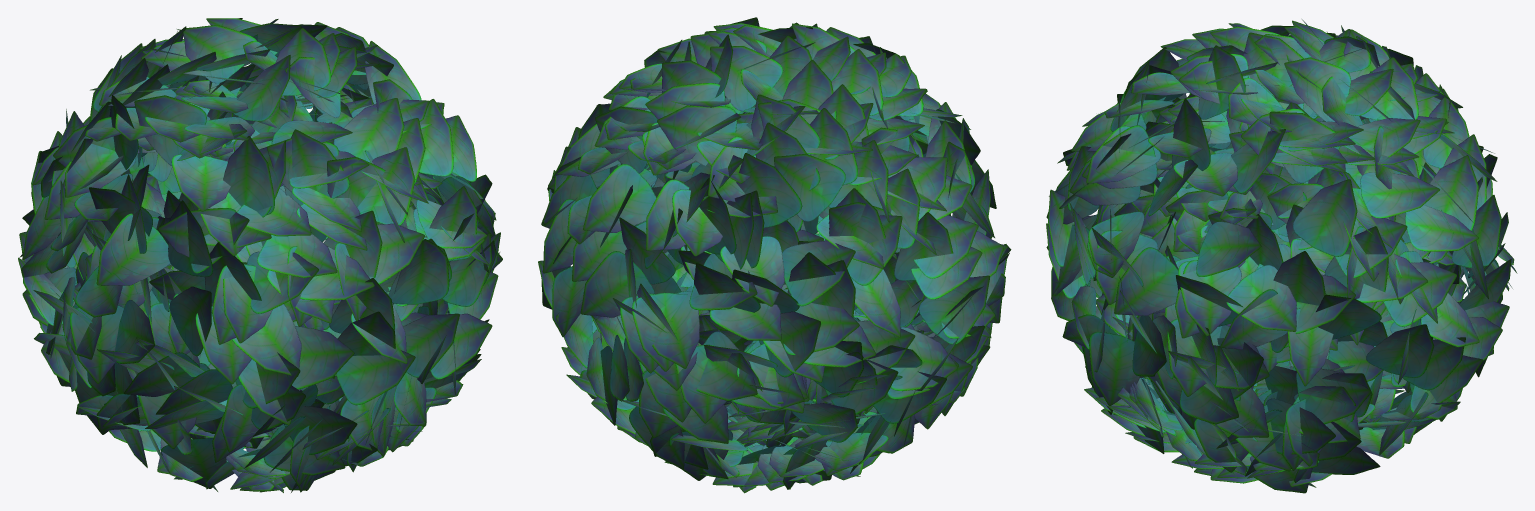
File: S_Bush.fbx
The picture shows the model from 3 angles, left to right: view 1: azimuth 30°, elevation 25°; view 2: azimuth 150°, elevation 25°; view 3: azimuth 270°, elevation 25°; orthographic projection. The views are drawn at different scales.
Visible parts, largest first — view 1: S_foliage_bush; view 2: S_foliage_bush; view 3: S_foliage_bush.
Boxes of the visible parts, x1,y1,x2,y2 form: S_foliage_bush: (18, 18, 502, 492); S_foliage_bush: (538, 17, 1011, 493); S_foliage_bush: (1046, 19, 1517, 493).
Bounding box in the file's own units: 68.42 × 68.11 × 68.25.
